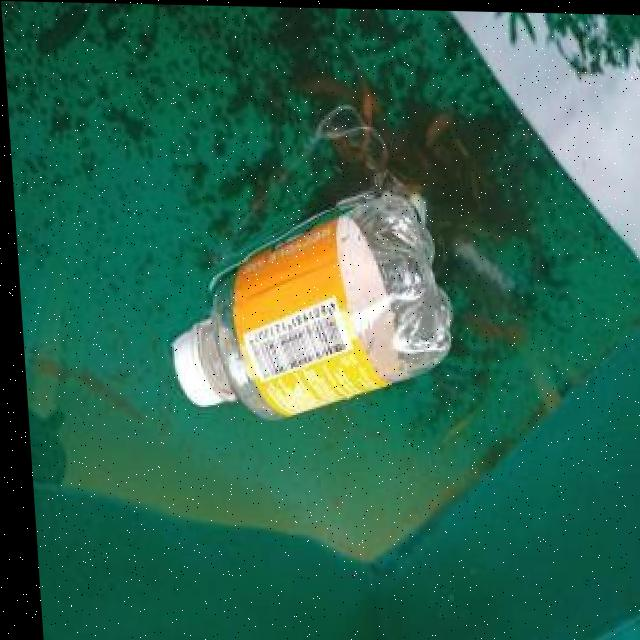bottle: (153, 183, 458, 428)
